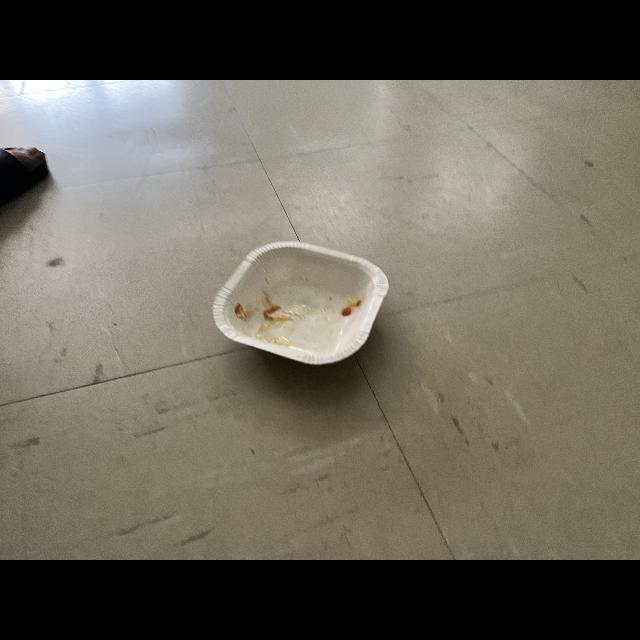cardboard_bowl: (210, 234, 394, 366)
